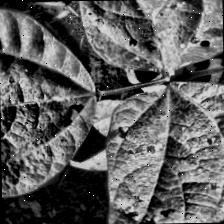ALS: (100, 83, 224, 224), (0, 29, 99, 189), (74, 0, 223, 76)
